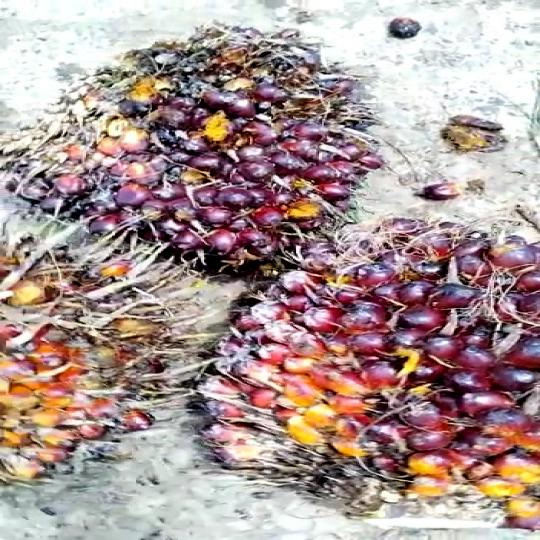masak: (189, 210, 540, 530), (0, 17, 428, 273)
